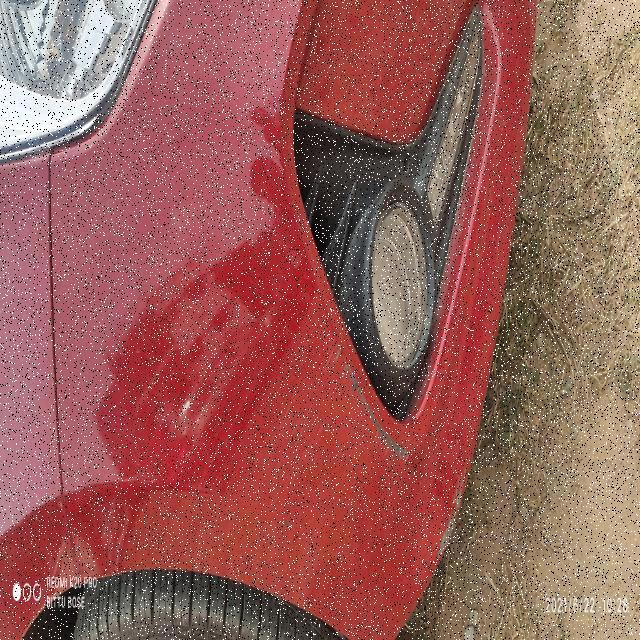front-bumper-dent: (166, 283, 477, 639)
